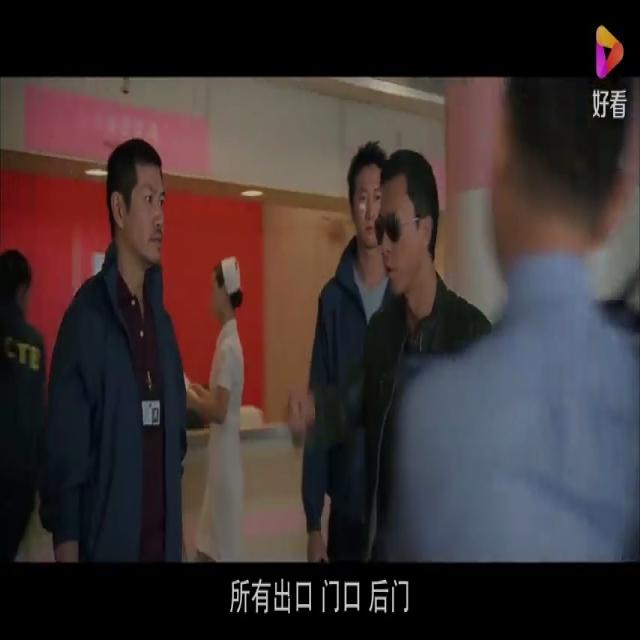non-fight: (286, 150, 496, 573), (34, 137, 187, 567)
